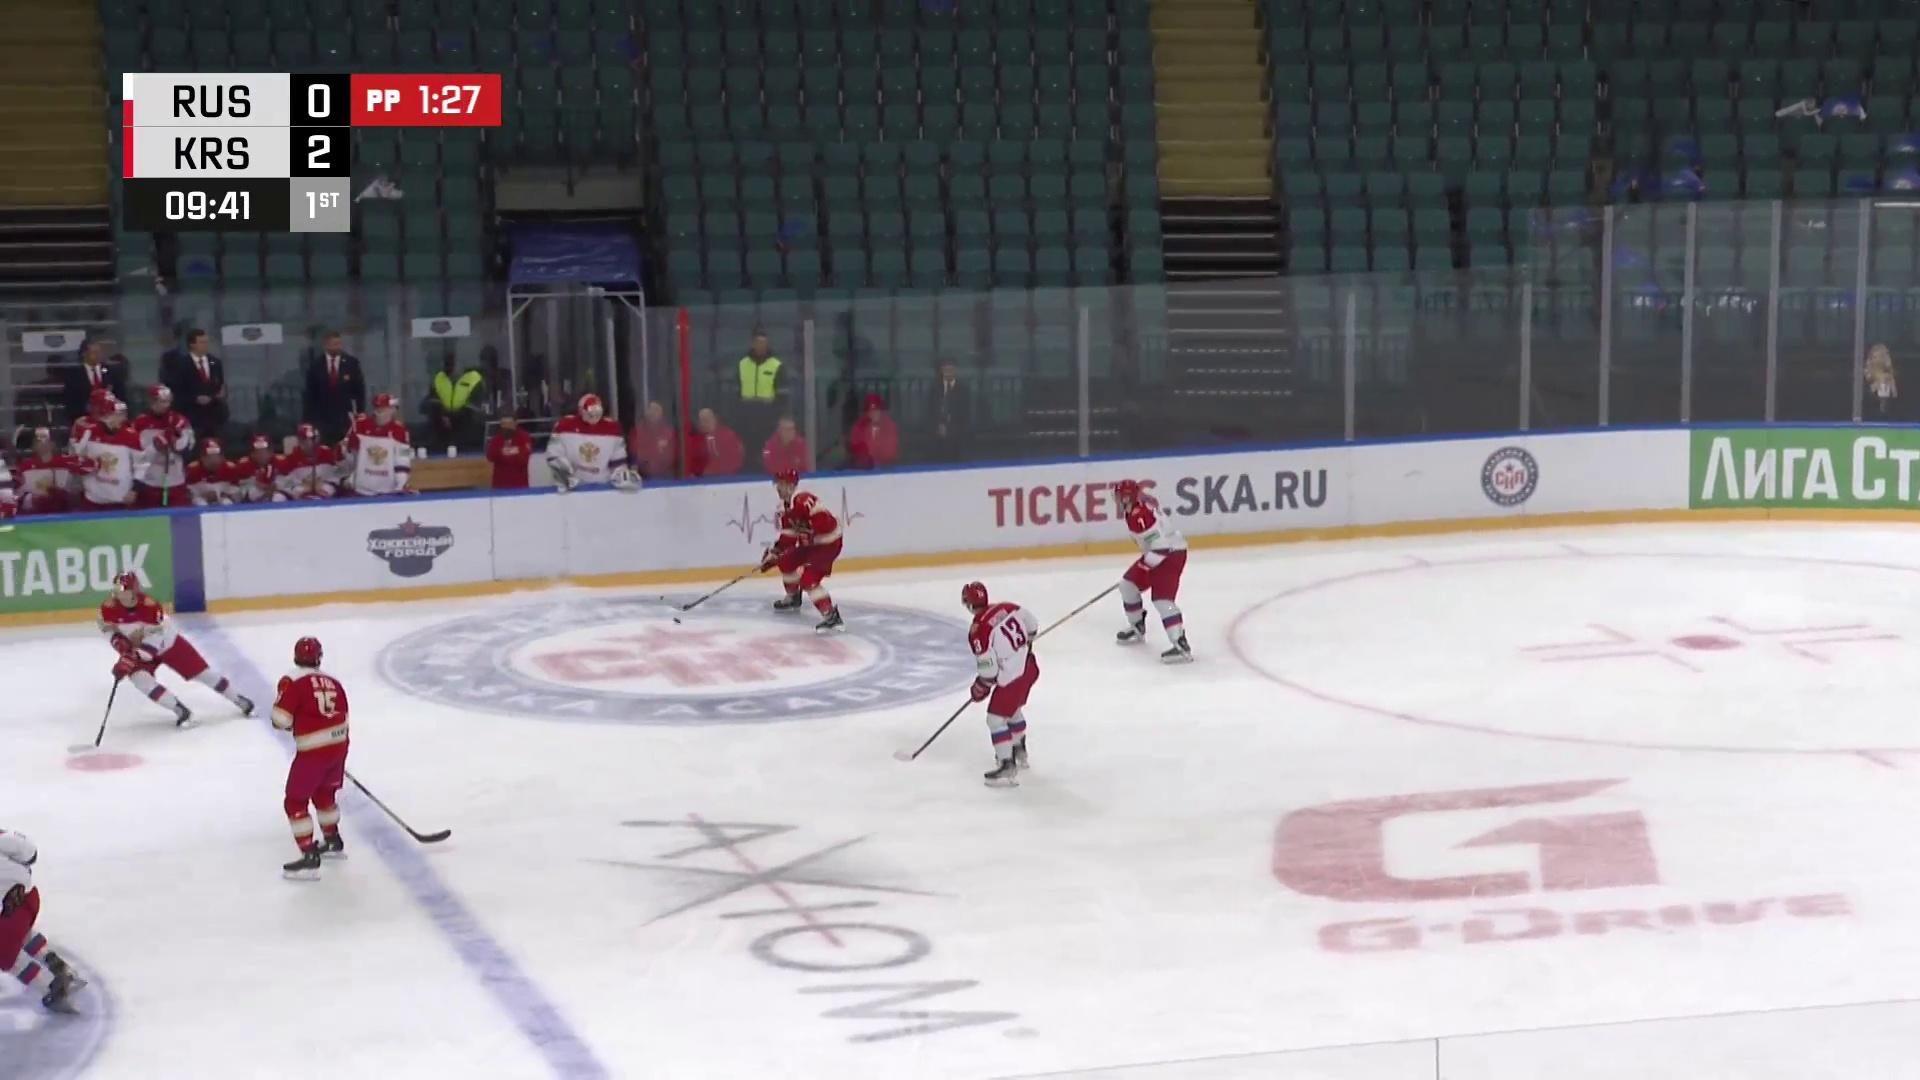ball: (671, 615, 682, 628)
